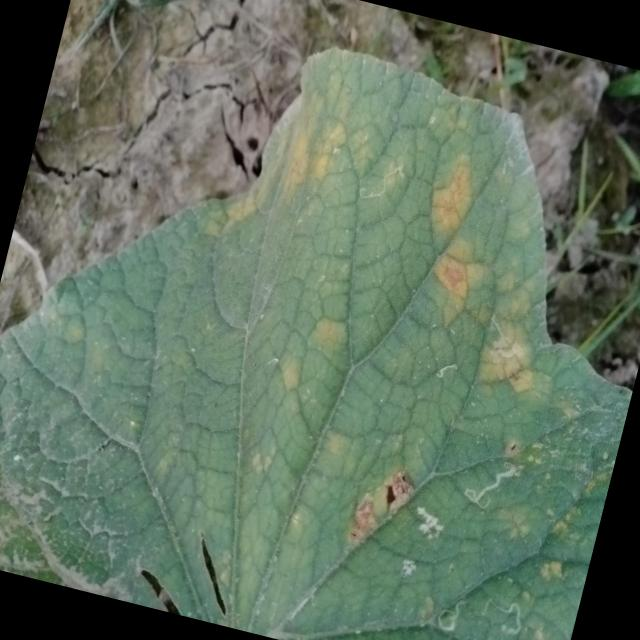cucumber_downy: (154, 47, 640, 640), (0, 242, 280, 620)
